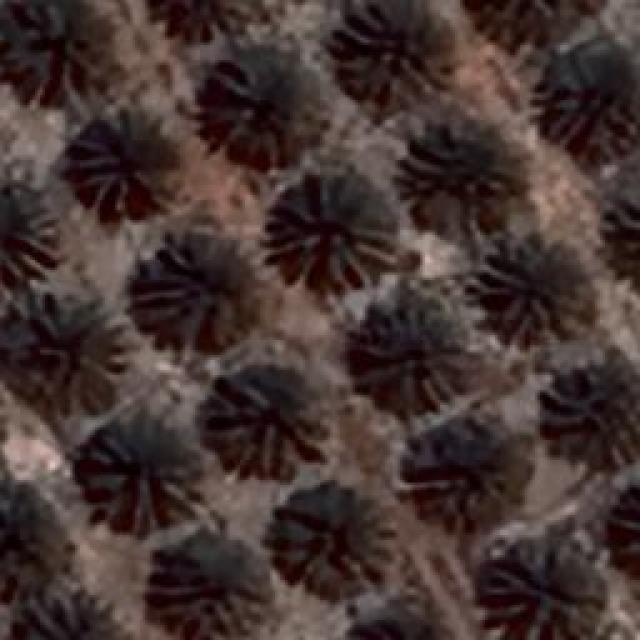PalmTree: (262, 178, 392, 292), (346, 297, 472, 405), (200, 375, 328, 480), (82, 420, 202, 530), (330, 0, 452, 105), (130, 235, 242, 348), (204, 58, 322, 160), (540, 348, 638, 468), (406, 416, 516, 519), (267, 495, 395, 583), (480, 550, 605, 638), (415, 121, 515, 231), (161, 538, 271, 634), (30, 290, 130, 395), (485, 245, 593, 340), (2, 0, 108, 95), (546, 56, 634, 159), (104, 20, 199, 100), (0, 479, 68, 589), (0, 190, 60, 280), (15, 587, 125, 635), (462, 0, 592, 33), (347, 606, 456, 640), (605, 188, 640, 292), (614, 475, 640, 580), (108, 100, 129, 169)
